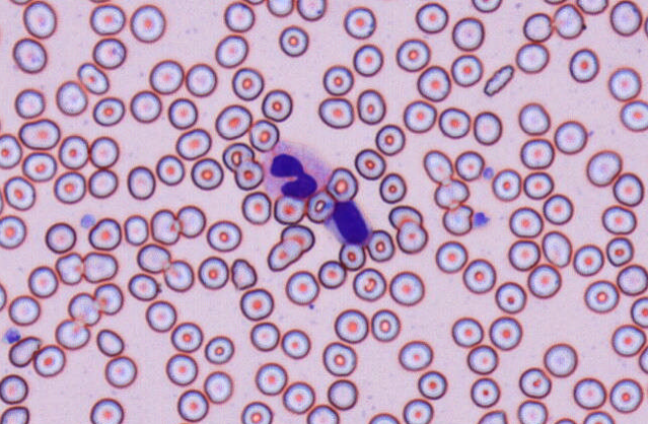GRAN: (261, 140, 331, 202)
LYM: (327, 198, 372, 244)
PLT: (4, 328, 21, 347), (473, 211, 492, 228), (80, 213, 98, 229), (483, 165, 496, 181)
RBC: (129, 3, 166, 43), (214, 103, 252, 140), (586, 149, 622, 187), (18, 118, 60, 150), (388, 270, 424, 306), (22, 0, 56, 38), (284, 269, 319, 305), (416, 65, 451, 101), (12, 37, 47, 73), (333, 308, 368, 343), (462, 258, 496, 294), (583, 279, 619, 313), (609, 377, 643, 413), (67, 291, 101, 326), (527, 263, 561, 298), (488, 315, 522, 350), (543, 342, 577, 377), (322, 341, 356, 376), (553, 119, 587, 154), (395, 38, 430, 72), (149, 59, 183, 94), (206, 219, 242, 252), (175, 127, 211, 160), (609, 0, 642, 36), (352, 267, 386, 301), (214, 34, 248, 68), (610, 324, 645, 357), (239, 287, 274, 320), (2, 175, 35, 210), (451, 16, 484, 51), (608, 66, 641, 101), (54, 318, 90, 350), (82, 251, 118, 283), (326, 166, 358, 202), (318, 96, 354, 128), (397, 339, 433, 371), (553, 3, 585, 39), (55, 80, 87, 116), (89, 3, 125, 35), (541, 230, 572, 267), (450, 53, 483, 87), (32, 344, 66, 377), (282, 380, 315, 414), (254, 361, 287, 395), (87, 217, 121, 250), (231, 66, 264, 100), (343, 5, 376, 39), (572, 376, 606, 409), (129, 89, 162, 123), (185, 62, 217, 97), (433, 178, 469, 209), (21, 151, 57, 182), (165, 353, 198, 386), (434, 240, 467, 273), (53, 171, 86, 204), (190, 157, 223, 190), (403, 100, 436, 133), (104, 355, 137, 388), (612, 172, 644, 206), (176, 388, 208, 422), (92, 37, 126, 69), (197, 255, 229, 289), (58, 134, 89, 169), (508, 206, 543, 237), (519, 138, 554, 169), (568, 47, 599, 82), (356, 88, 386, 124), (162, 259, 194, 292), (518, 366, 551, 398), (76, 62, 109, 94), (507, 239, 540, 271), (438, 106, 470, 139), (572, 243, 604, 276), (518, 102, 550, 135), (422, 149, 453, 183), (515, 42, 549, 73), (261, 88, 292, 122), (414, 2, 448, 33), (136, 243, 171, 273), (472, 110, 502, 145), (601, 204, 636, 234), (395, 221, 427, 253), (326, 378, 358, 410), (8, 294, 40, 326), (44, 221, 76, 253), (494, 281, 526, 313), (352, 43, 383, 76), (145, 299, 176, 332), (170, 321, 203, 352), (27, 265, 58, 298), (248, 119, 279, 152), (616, 263, 647, 296), (280, 223, 314, 253), (176, 204, 206, 238), (370, 308, 400, 342), (126, 165, 155, 200), (233, 158, 264, 190), (273, 194, 305, 225), (483, 64, 514, 96), (354, 148, 385, 180), (542, 193, 573, 225), (167, 97, 198, 129), (451, 316, 483, 347), (203, 370, 233, 403), (491, 168, 521, 201), (241, 191, 271, 224), (92, 96, 125, 126), (89, 135, 119, 168), (442, 204, 473, 235), (14, 87, 45, 118), (322, 64, 353, 95), (223, 1, 254, 32), (222, 142, 254, 172), (466, 344, 498, 374), (155, 154, 185, 186), (375, 123, 405, 155), (278, 24, 308, 56), (306, 190, 335, 223), (127, 272, 160, 301), (469, 377, 500, 407), (87, 168, 118, 198), (454, 150, 484, 181), (280, 328, 310, 359), (522, 12, 553, 42), (366, 229, 394, 262), (619, 99, 647, 132), (0, 214, 26, 249), (89, 397, 124, 423), (249, 321, 279, 351), (522, 171, 554, 199), (388, 204, 422, 230), (204, 335, 234, 364), (317, 259, 346, 289), (605, 236, 634, 266), (417, 370, 447, 399), (0, 373, 28, 404), (378, 172, 406, 203), (0, 132, 22, 169), (95, 328, 124, 356), (123, 214, 149, 245), (402, 398, 433, 423), (240, 400, 273, 423), (338, 242, 365, 270), (516, 399, 547, 423), (306, 403, 339, 423), (296, 0, 326, 21), (630, 296, 647, 327), (0, 405, 29, 423), (266, 0, 293, 17), (576, 0, 608, 14), (476, 409, 507, 423), (582, 410, 614, 423), (471, 0, 502, 13), (367, 412, 399, 423), (638, 345, 647, 373), (0, 282, 7, 311), (553, 416, 576, 423), (643, 14, 648, 38), (543, 0, 567, 5), (9, 0, 32, 5), (0, 188, 4, 214), (244, 0, 264, 5), (88, 0, 112, 3)
Schistocyte: (267, 240, 302, 272), (7, 337, 42, 367), (53, 252, 83, 285), (94, 285, 123, 315), (230, 259, 257, 291)
